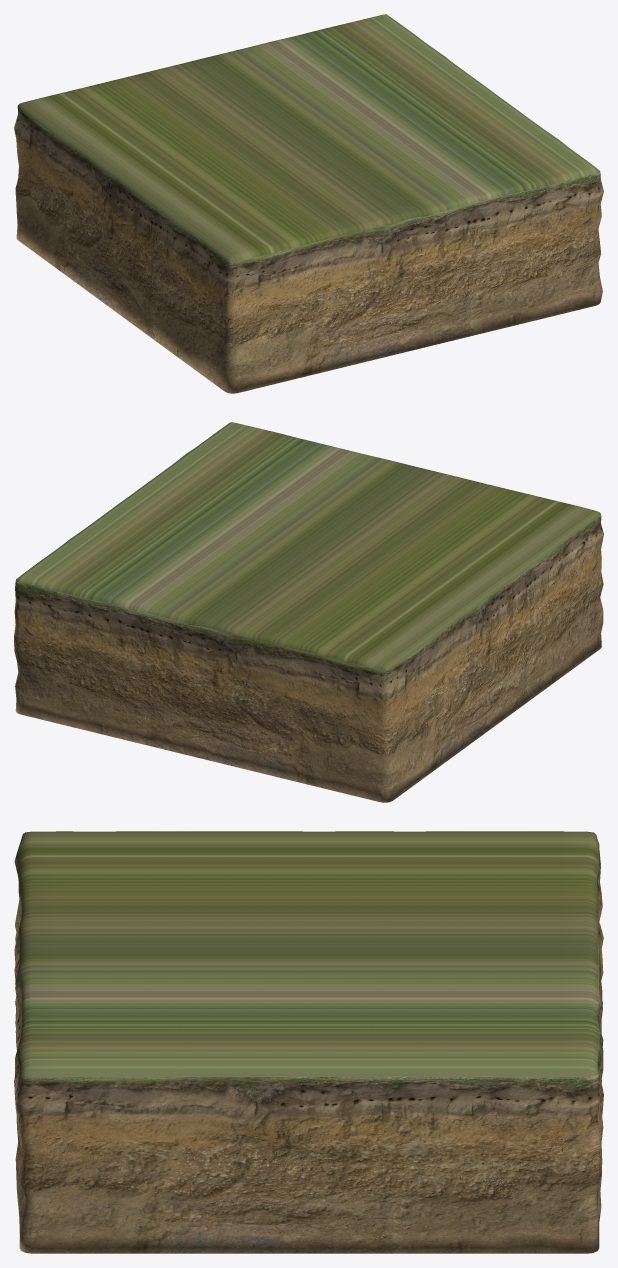
File: durtcube.glb
3 renders of one model, top to bottom at view 1: azimuth 30°, elevation 25°; view 2: azimuth 150°, elevation 25°; view 3: azimuth 270°, elevation 25°, orthographic. The views are drawn at different scales.
Visible parts, largest first — view 1: Cube; view 2: Cube; view 3: Cube.
Boxes of the visible parts, left/top/right/bottom form: Cube: left=14, top=14, right=603, bottom=393; Cube: left=14, top=422, right=603, bottom=802; Cube: left=14, top=831, right=603, bottom=1253.
Bounding box in the file's own units: 9.91 × 3.36 × 9.91.
1 material, 1 textured.
